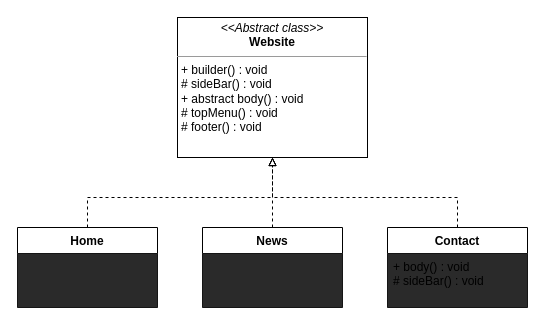
This 545x328 diagram has some shape labels left out. The centre of each missing label's shape, as x and y in pixels:
+ body() : void: (87,280)
+ body() : void # footer() : void: (272,280)
